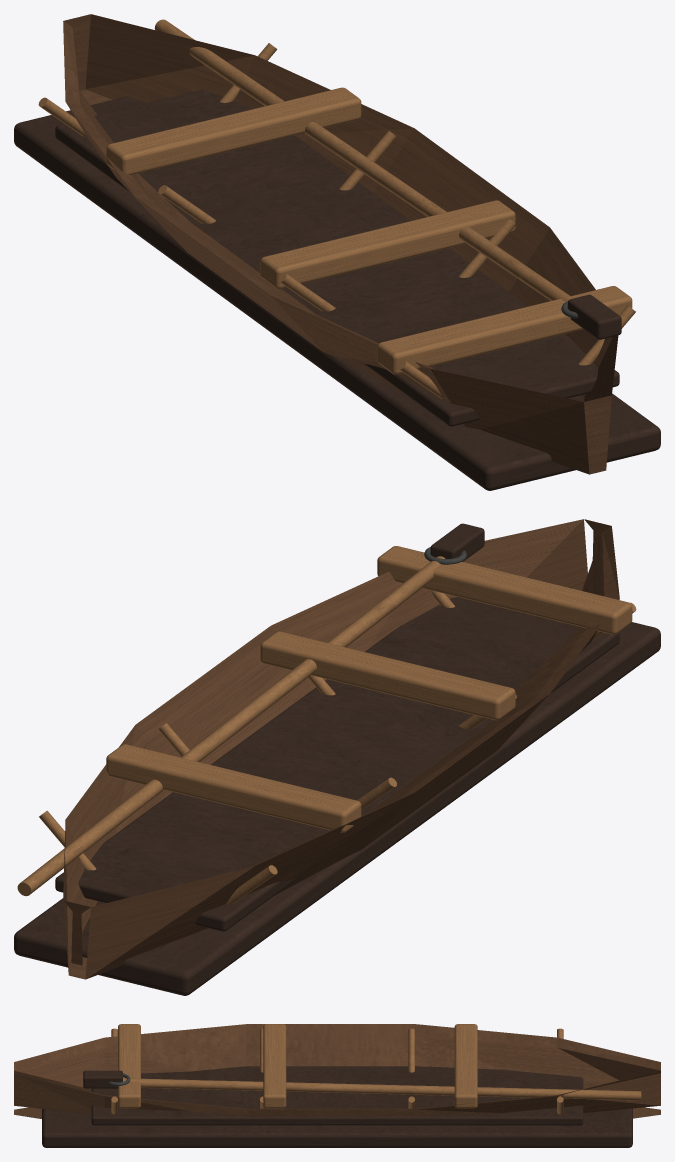
File: punt.glb
3 renders of one model, top to bottom at view 1: azimuth 30°, elevation 25°; view 2: azimuth 150°, elevation 25°; view 3: azimuth 270°, elevation 25°, orthographic. The views are drawn at different scales.
Visible parts, largest first — view 1: punt; view 2: punt; view 3: punt.
Boxes of the visible parts, x1,y1,x2,y2 form: punt: [14, 14, 660, 490]; punt: [14, 519, 660, 995]; punt: [14, 1024, 660, 1147].
Bounding box in the file's own units: 1.3 × 0.5 × 4.2.
1 material, 1 textured.
